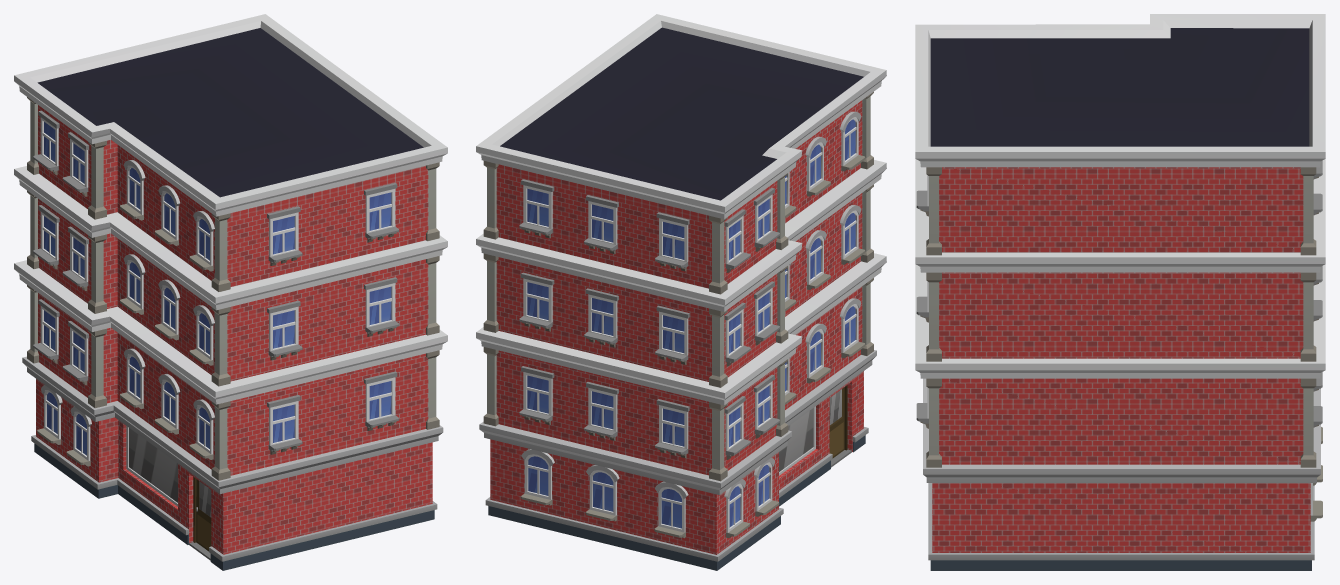
File: Building_1_4_G.glb
The picture shows the model from 3 angles, left to right: view 1: azimuth 30°, elevation 25°; view 2: azimuth 150°, elevation 25°; view 3: azimuth 270°, elevation 25°; orthographic projection. The views are drawn at different scales.
Visible parts, largest first — view 1: Building_1_4_G; view 2: Building_1_4_G; view 3: Building_1_4_G.
Boxes of the visible parts, x1,y1,x2,y2 form: Building_1_4_G: [14, 14, 447, 570]; Building_1_4_G: [476, 14, 886, 570]; Building_1_4_G: [915, 14, 1325, 570].
Bounding box in the file's own units: 8.41 × 12.01 × 10.57.
Materials: 4 (4 with a texture image).
